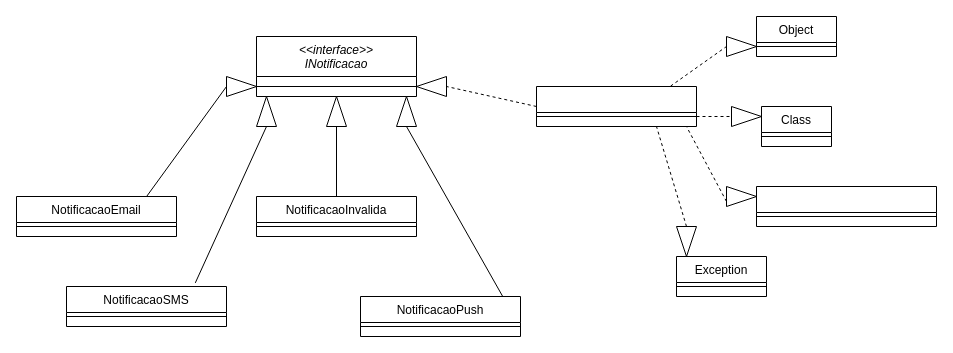
This 953x353 diagram has some shape labels left out. Here are the shapes that lost their labels. From the top down, the box of each, then its label:
(536, 86, 696, 126): NotificacaoFactory
(756, 186, 936, 226): IllegalArgumentException
